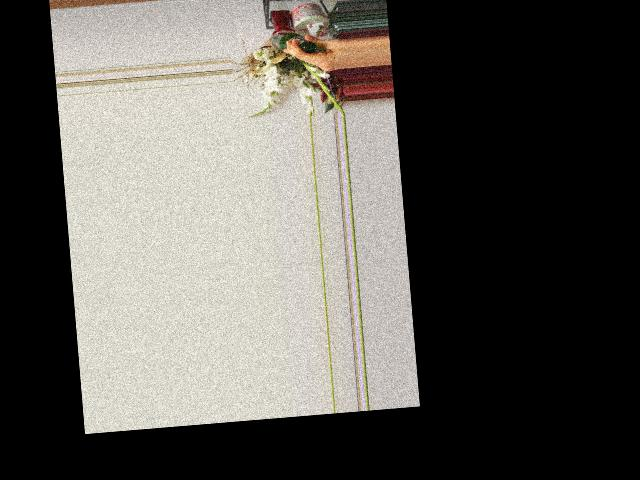beer: (270, 29, 317, 55)
